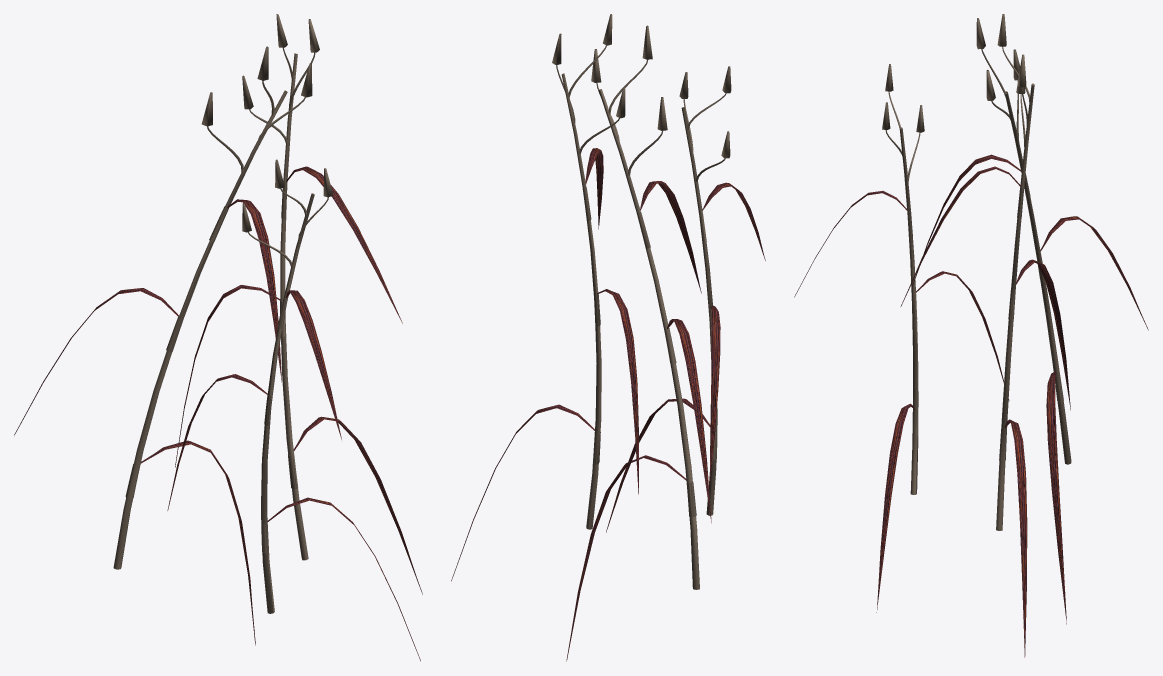
File: dryshoots_07.glb
The picture shows the model from 3 angles, left to right: view 1: azimuth 30°, elevation 25°; view 2: azimuth 150°, elevation 25°; view 3: azimuth 270°, elevation 25°; orthographic projection. The views are drawn at different scales.
Parts seen in each view (by area): view 1: export; view 2: export; view 3: export.
Boxes of the visible parts, x1,y1,x2,y2 form: export: (14, 14, 422, 661); export: (451, 14, 765, 661); export: (794, 14, 1148, 657).
Bounding box in the file's own units: 0.8459 × 1.56 × 0.8263.
Materials: 2 (2 with a texture image).
